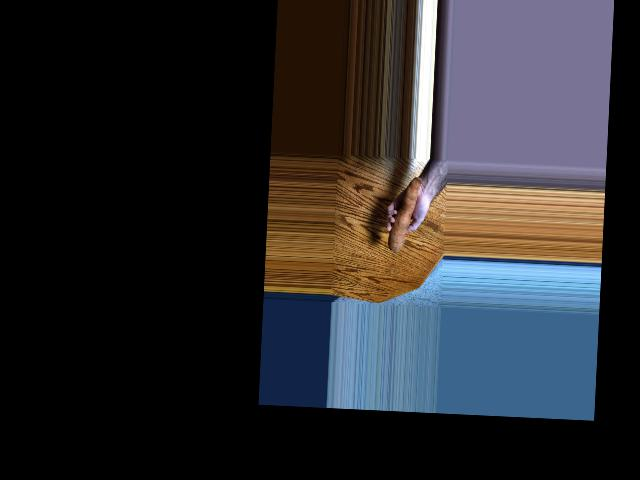sweet_potato: (386, 180, 418, 249)
